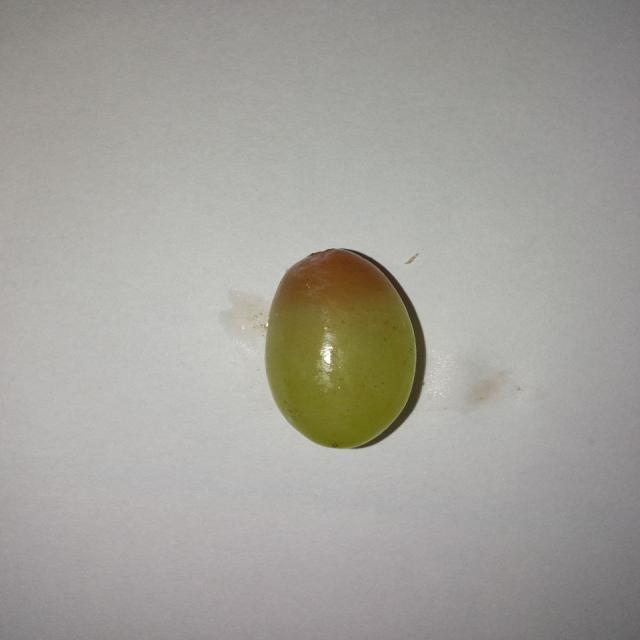rotten_grape: (269, 255, 412, 447)
